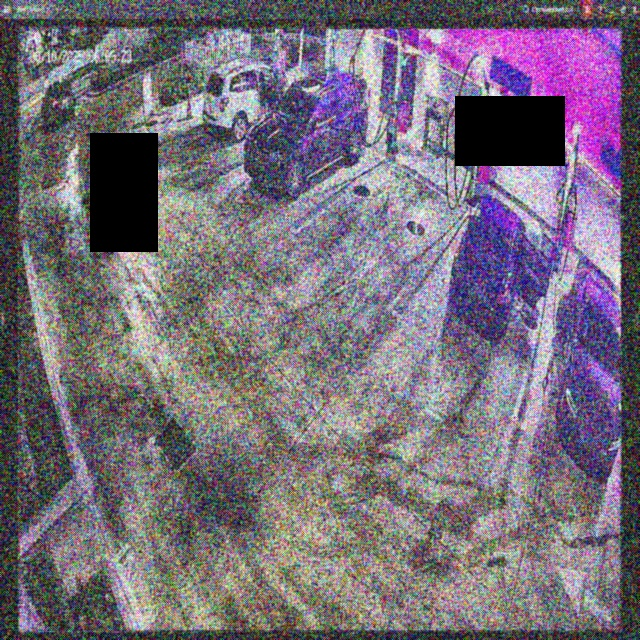Car: (245, 67, 368, 196), (450, 192, 557, 340)
